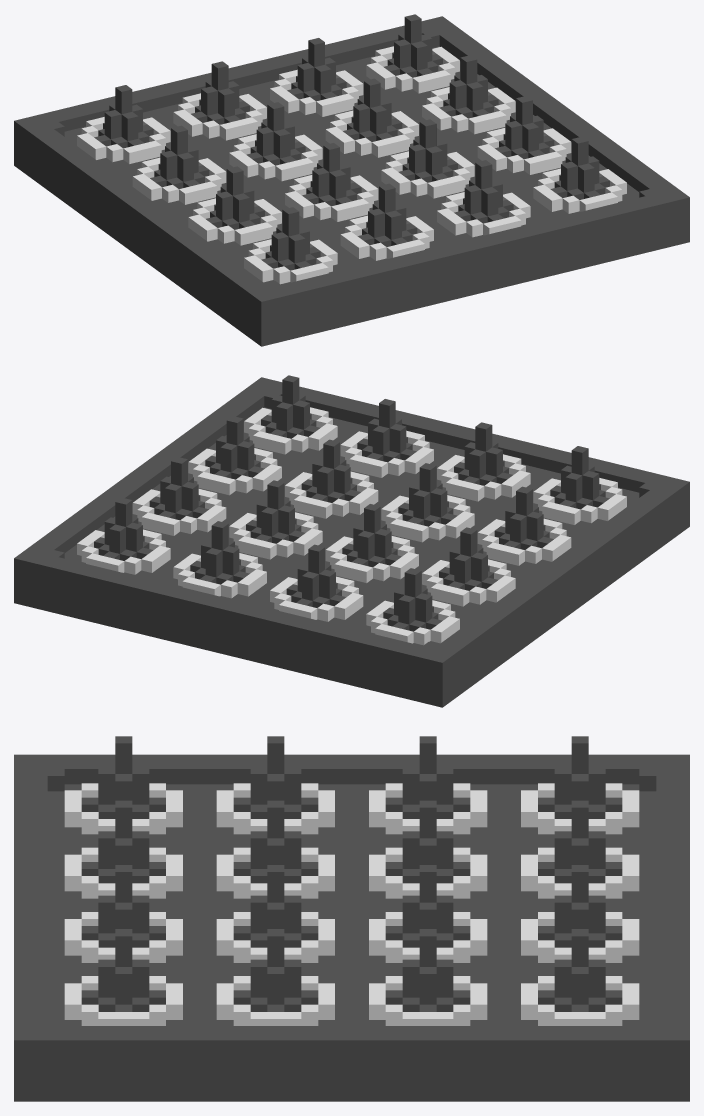
File: Spike_Trap_02.obj
3 views of the same model, one above another, from view 1: azimuth 30°, elevation 25°; view 2: azimuth 150°, elevation 25°; view 3: azimuth 270°, elevation 25° (orthographic). The views are drawn at different scales.
Parts seen in each view (by area): view 1: Spike_Trap_02; view 2: Spike_Trap_02; view 3: Spike_Trap_02.
Part boxes in pixels (left/top/right/bottom): Spike_Trap_02: left=14, top=14, right=689, bottom=346; Spike_Trap_02: left=14, top=375, right=689, bottom=707; Spike_Trap_02: left=14, top=736, right=689, bottom=1101.
Bounding box in the file's own units: 40 × 8 × 40.
Materials: 1 (1 with a texture image).
